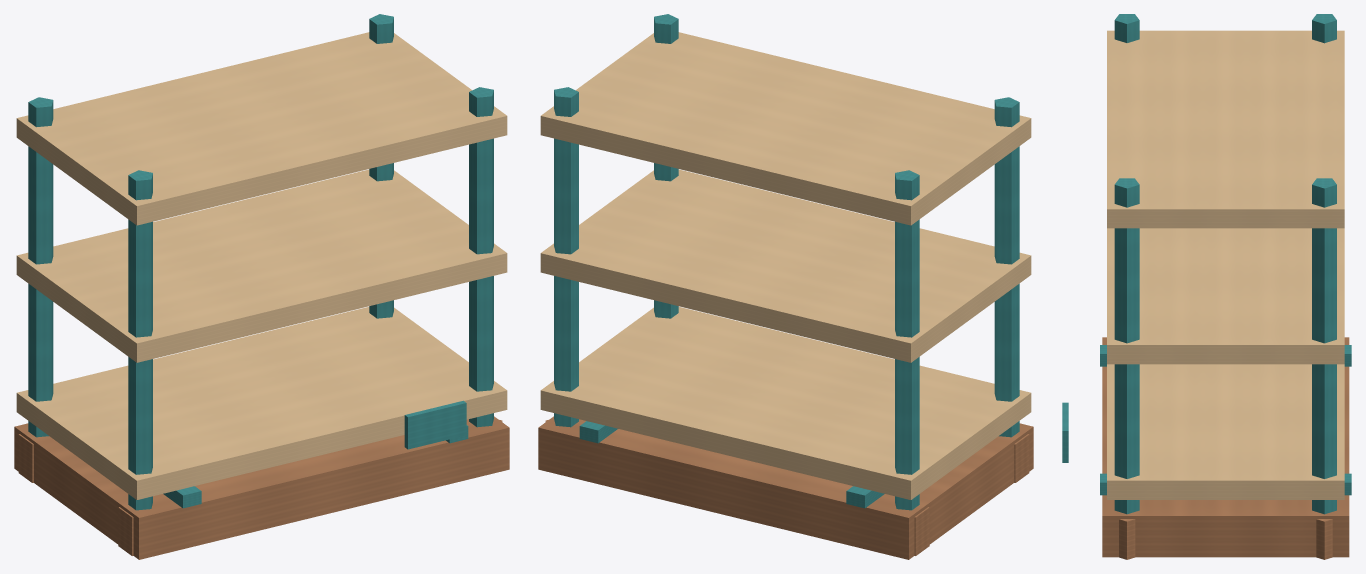
Rendered from atlas100-s097-a06.lod1.glb.
3 renders of one model, left to right at view 1: azimuth 30°, elevation 25°; view 2: azimuth 150°, elevation 25°; view 3: azimuth 270°, elevation 25°, orthographic.
Visible parts, largest first — view 1: atlas100-s097-a06:part-013, atlas100-s097-a06:part-012, atlas100-s097-a06:part-011, atlas100-s097-a06:part-000, atlas100-s097-a06:part-005, atlas100-s097-a06:part-009, atlas100-s097-a06:part-003, atlas100-s097-a06:part-014, atlas100-s097-a06:part-007, atlas100-s097-a06:part-006, atlas100-s097-a06:part-004; view 2: atlas100-s097-a06:part-013, atlas100-s097-a06:part-011, atlas100-s097-a06:part-012, atlas100-s097-a06:part-000, atlas100-s097-a06:part-003, atlas100-s097-a06:part-007, atlas100-s097-a06:part-005, atlas100-s097-a06:part-009, atlas100-s097-a06:part-004, atlas100-s097-a06:part-006; view 3: atlas100-s097-a06:part-013, atlas100-s097-a06:part-012, atlas100-s097-a06:part-011, atlas100-s097-a06:part-000, atlas100-s097-a06:part-009, atlas100-s097-a06:part-007, atlas100-s097-a06:part-005, atlas100-s097-a06:part-010, atlas100-s097-a06:part-008, atlas100-s097-a06:part-003, atlas100-s097-a06:part-014.
Part boxes in pixels (<box>): atlas100-s097-a06:part-013: <box>16,32,507,225</box>; atlas100-s097-a06:part-012: <box>16,169,507,362</box>; atlas100-s097-a06:part-011: <box>16,307,507,499</box>; atlas100-s097-a06:part-000: <box>14,416,509,559</box>; atlas100-s097-a06:part-005: <box>128,170,152,510</box>; atlas100-s097-a06:part-009: <box>469,87,493,427</box>; atlas100-s097-a06:part-003: <box>28,97,53,437</box>; atlas100-s097-a06:part-014: <box>404,400,466,449</box>; atlas100-s097-a06:part-007: <box>369,14,393,318</box>; atlas100-s097-a06:part-006: <box>118,507,133,555</box>; atlas100-s097-a06:part-004: <box>18,434,33,482</box>; atlas100-s097-a06:part-013: <box>540,32,1031,225</box>; atlas100-s097-a06:part-011: <box>540,307,1031,499</box>; atlas100-s097-a06:part-012: <box>540,169,1031,362</box>; atlas100-s097-a06:part-000: <box>538,416,1033,559</box>; atlas100-s097-a06:part-003: <box>895,170,919,510</box>; atlas100-s097-a06:part-007: <box>554,87,578,427</box>; atlas100-s097-a06:part-005: <box>994,97,1019,437</box>; atlas100-s097-a06:part-009: <box>654,14,678,318</box>; atlas100-s097-a06:part-004: <box>914,507,929,555</box>; atlas100-s097-a06:part-006: <box>1014,434,1029,482</box>; atlas100-s097-a06:part-013: <box>1107,30,1344,228</box>; atlas100-s097-a06:part-012: <box>1107,228,1344,364</box>; atlas100-s097-a06:part-011: <box>1107,364,1344,499</box>; atlas100-s097-a06:part-000: <box>1102,337,1349,557</box>; atlas100-s097-a06:part-009: <box>1114,178,1139,514</box>; atlas100-s097-a06:part-007: <box>1312,178,1336,514</box>; atlas100-s097-a06:part-005: <box>1114,14,1139,42</box>; atlas100-s097-a06:part-010: <box>1119,519,1135,559</box>; atlas100-s097-a06:part-008: <box>1316,519,1332,559</box>; atlas100-s097-a06:part-003: <box>1312,14,1336,43</box>; atlas100-s097-a06:part-014: <box>1062,402,1068,462</box>.
Bounding box in the file's own units: 2.44 × 2.3 × 1.64.
Materials: 3 (3 with a texture image).
